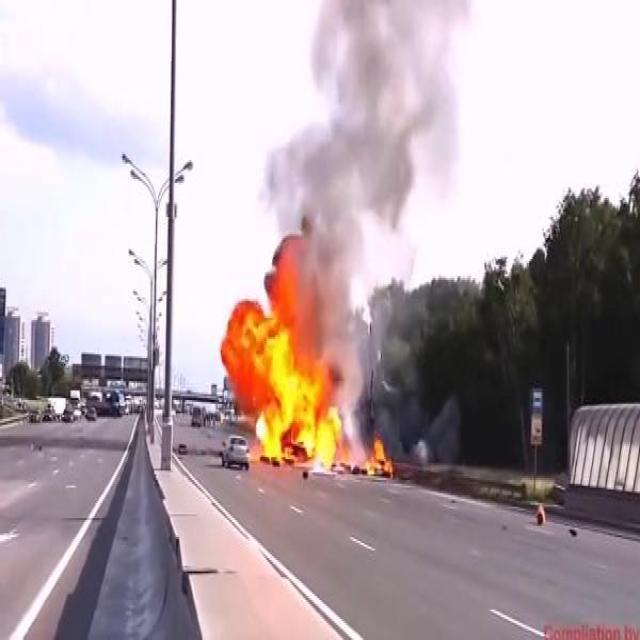Fire: (217, 226, 400, 478)
Smoke: (270, 0, 444, 221), (305, 222, 373, 424)
